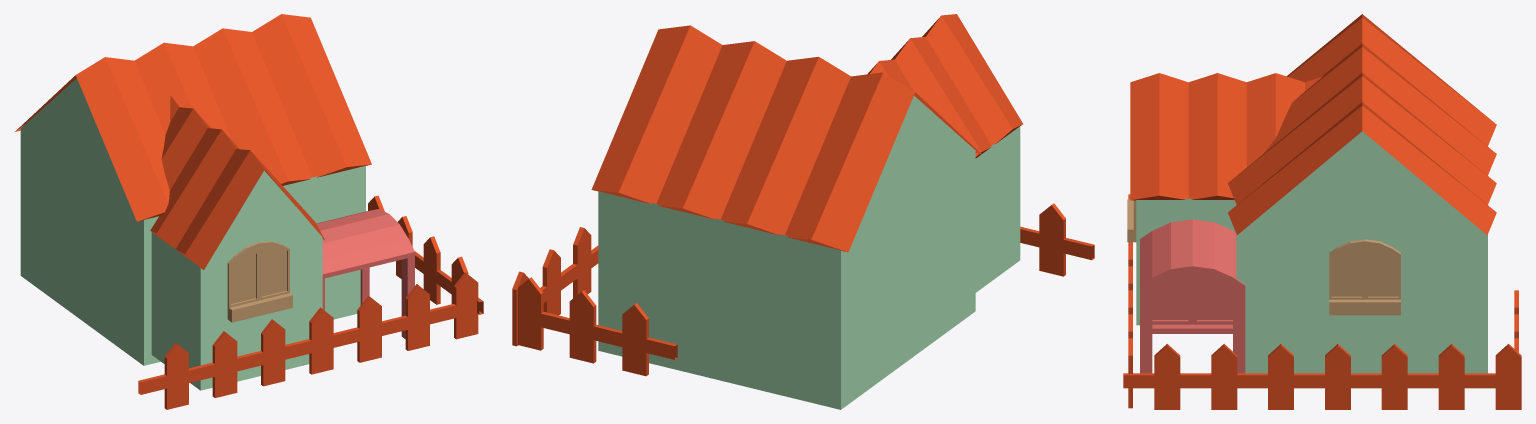
Rendered from casa.fbx.
3 views of the same model, side by side, from view 1: azimuth 30°, elevation 25°; view 2: azimuth 150°, elevation 25°; view 3: azimuth 270°, elevation 25° (orthographic). The views are drawn at different scales.
Parts seen in each view (by area): view 1: casa; view 2: casa; view 3: casa.
Boxes of the visible parts, <box> form: casa: <box>15,14,483,409</box>; casa: <box>512,14,1094,409</box>; casa: <box>1123,14,1521,409</box>.
Size of the model in its own units: 127 by 92.04 by 126.
